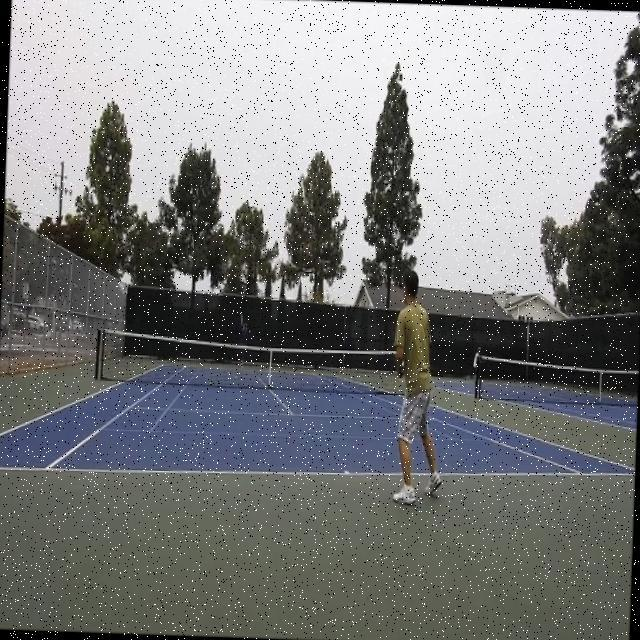court: (0, 359, 638, 491)
net: (91, 327, 424, 395)
player: (388, 268, 448, 506)
